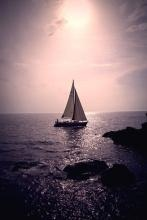fanchuan: (51, 79, 92, 127)
